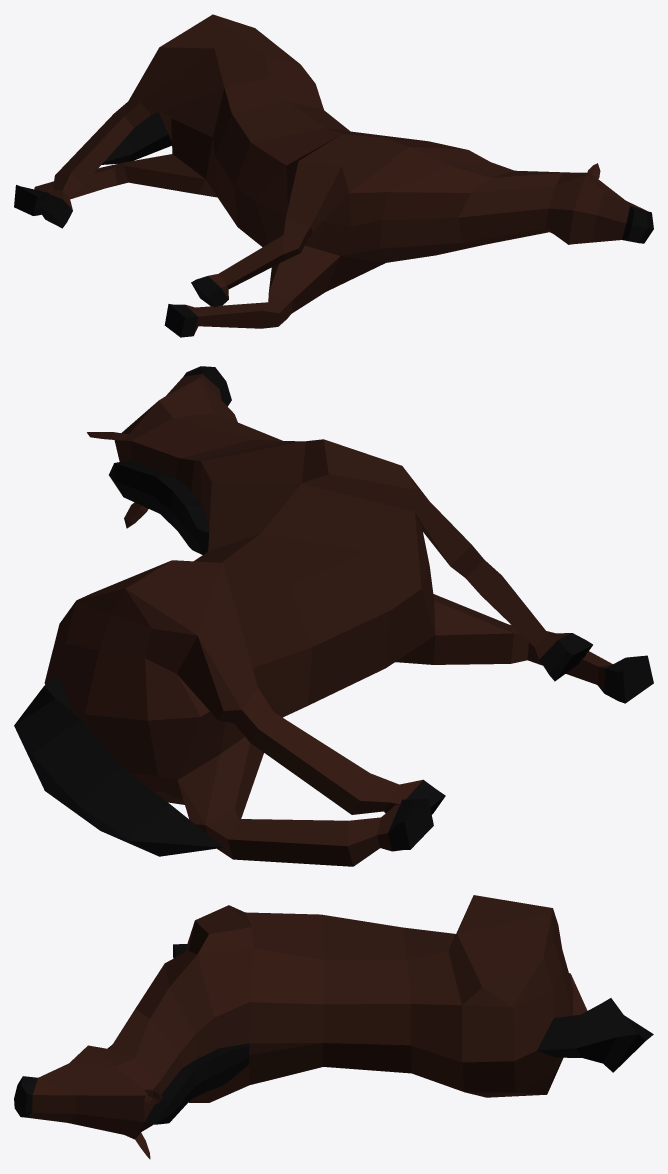
File: Horse_000015.obj
3 renders of one model, top to bottom at view 1: azimuth 30°, elevation 25°; view 2: azimuth 150°, elevation 25°; view 3: azimuth 270°, elevation 25°, orthographic. The views are drawn at different scales.
Visible parts, largest first — view 1: Horse_Cylinder; view 2: Horse_Cylinder; view 3: Horse_Cylinder.
Boxes of the visible parts, x1,y1,x2,y2 form: Horse_Cylinder: [14, 14, 653, 337]; Horse_Cylinder: [14, 366, 653, 866]; Horse_Cylinder: [14, 895, 653, 1159].
Bounding box in the file's own units: 7.29 × 2.74 × 9.01.
